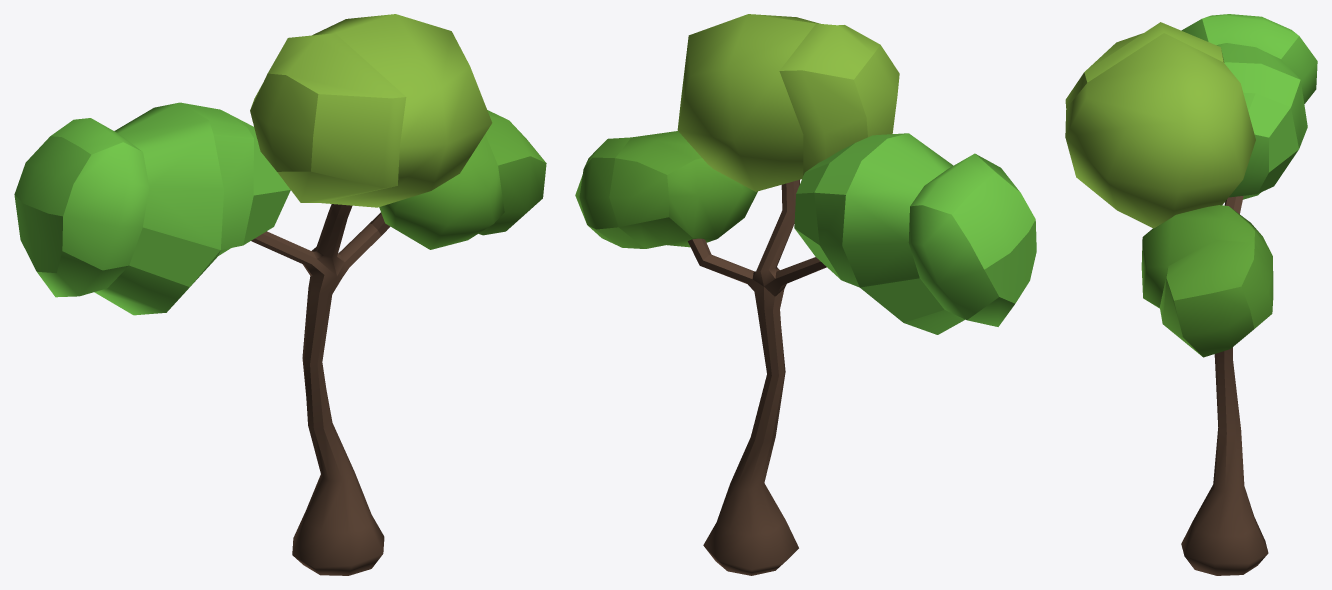
File: Arbol_Mediano.fbx
3 views of the same model, side by side, from view 1: azimuth 30°, elevation 25°; view 2: azimuth 150°, elevation 25°; view 3: azimuth 270°, elevation 25° (orthographic). The views are drawn at different scales.
Visible parts, largest first — view 1: Hojas_der_am, Hojas_medio_am, Tronco_am, Hojas_izq_am; view 2: Hojas_der_am, Hojas_medio_am, Hojas_izq_am, Tronco_am; view 3: Hojas_medio_am, Hojas_izq_am, Hojas_der_am, Tronco_am.
Boxes of the visible parts, x1,y1,x2,y2 form: Hojas_der_am: [14, 102, 290, 315]; Hojas_medio_am: [250, 14, 492, 207]; Tronco_am: [251, 204, 390, 575]; Hojas_izq_am: [379, 110, 546, 249]; Hojas_der_am: [794, 133, 1036, 334]; Hojas_medio_am: [677, 14, 899, 191]; Hojas_izq_am: [575, 131, 757, 248]; Tronco_am: [688, 179, 826, 575]; Hojas_medio_am: [1065, 22, 1255, 228]; Hojas_izq_am: [1141, 205, 1273, 357]; Hojas_der_am: [1181, 14, 1317, 202]; Tronco_am: [1181, 196, 1268, 575].
Bounding box in the file's own units: 10.69 × 11.89 × 5.28.
